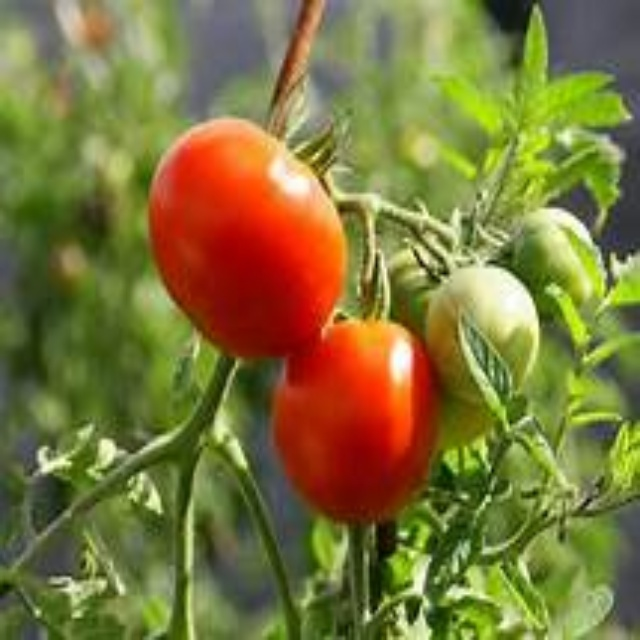tomato: (138, 111, 346, 364), (381, 236, 544, 424), (271, 326, 433, 511), (511, 185, 605, 325)
